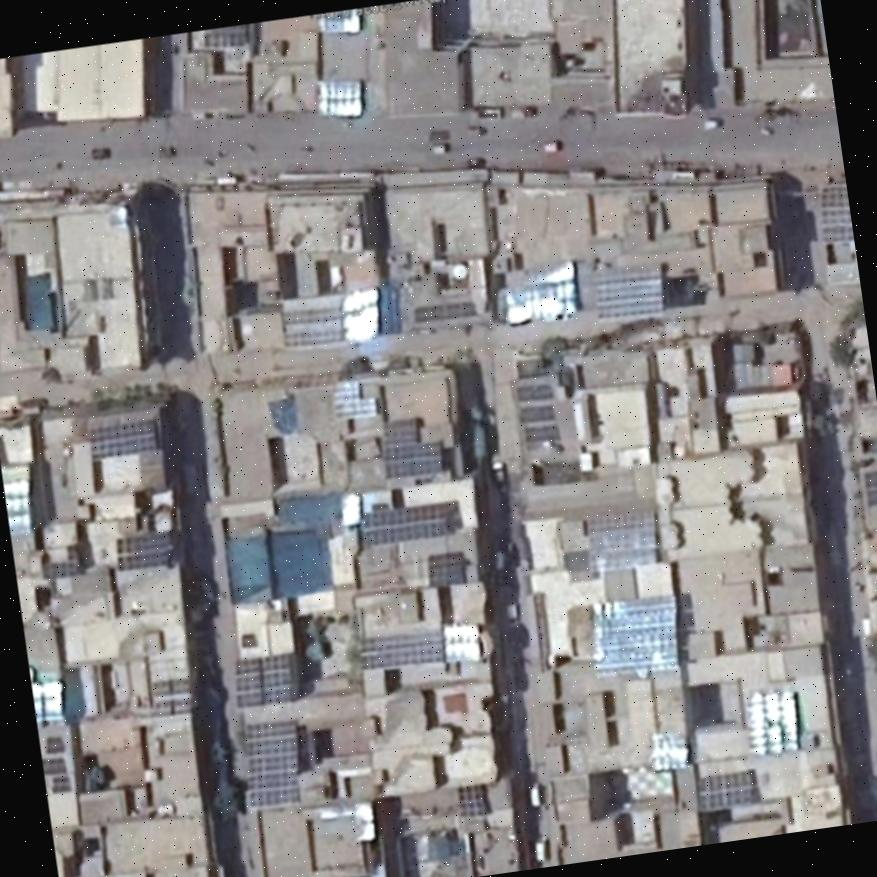Solarpanel: (593, 593, 678, 674), (245, 721, 298, 804), (589, 512, 656, 570), (359, 504, 450, 544), (381, 416, 440, 477), (595, 270, 663, 317), (358, 630, 443, 666), (749, 690, 798, 752), (233, 654, 291, 705), (505, 281, 572, 322), (88, 421, 156, 458), (516, 385, 560, 439), (696, 770, 751, 808), (116, 530, 172, 567), (820, 185, 853, 237), (345, 287, 378, 337), (3, 476, 29, 534), (31, 680, 65, 722), (650, 731, 686, 768), (320, 81, 362, 112), (414, 302, 475, 319), (454, 783, 486, 815), (319, 8, 360, 32), (284, 330, 343, 346), (280, 307, 339, 323), (206, 24, 246, 44), (863, 471, 877, 502)
